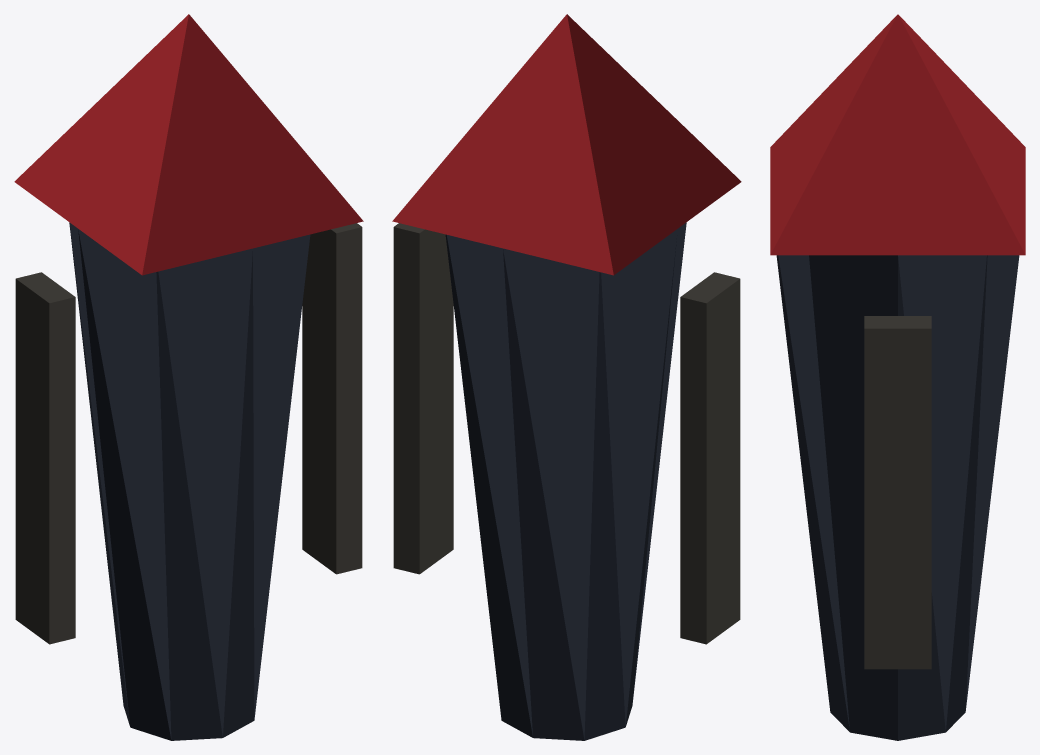
Rendered from stalker.obj.
3 renders of one model, left to right at view 1: azimuth 30°, elevation 25°; view 2: azimuth 150°, elevation 25°; view 3: azimuth 270°, elevation 25°, orthographic.
Parts seen in each view (by area): view 1: stalker_body, stalker_hood, stalker_blade_l, stalker_blade_r; view 2: stalker_body, stalker_hood, stalker_blade_l, stalker_blade_r; view 3: stalker_body, stalker_hood, stalker_blade_r.
Part boxes in pixels (x1,y1,x2,y2): stalker_body: (69,222,310,740); stalker_hood: (14,14,363,275); stalker_blade_l: (15,272,75,644); stalker_blade_r: (302,223,362,574); stalker_body: (445,222,686,740); stalker_hood: (392,14,741,275); stalker_blade_l: (680,272,740,644); stalker_blade_r: (393,223,453,574); stalker_body: (776,255,1019,740); stalker_hood: (770,14,1025,255); stalker_blade_r: (864,316,931,669).
Size of the model in its own units: 0.96 by 2.05 by 0.68.
